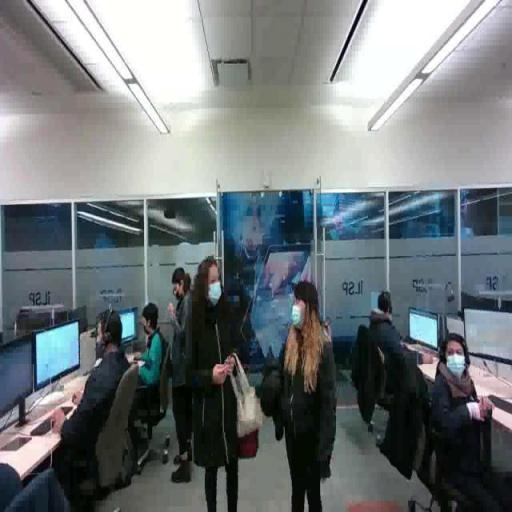person: (193, 257, 260, 512), (58, 316, 141, 512), (277, 270, 340, 512), (431, 332, 512, 512), (362, 283, 432, 456), (163, 267, 198, 489), (129, 301, 181, 446)
